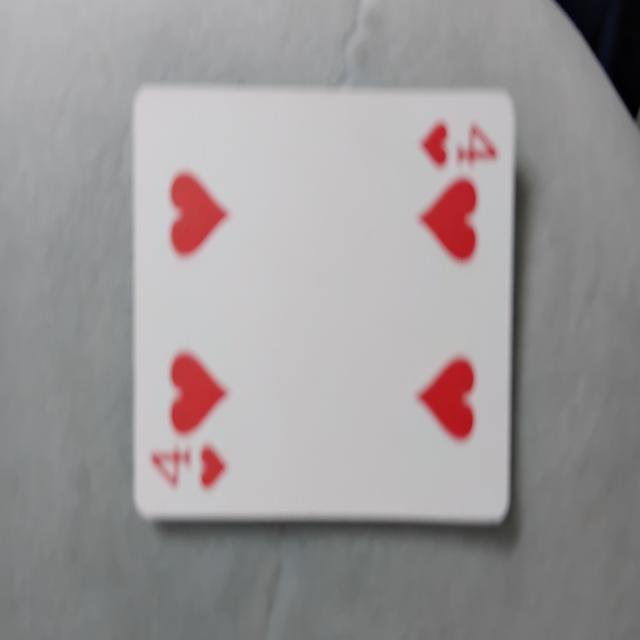4H: (136, 91, 512, 521)
